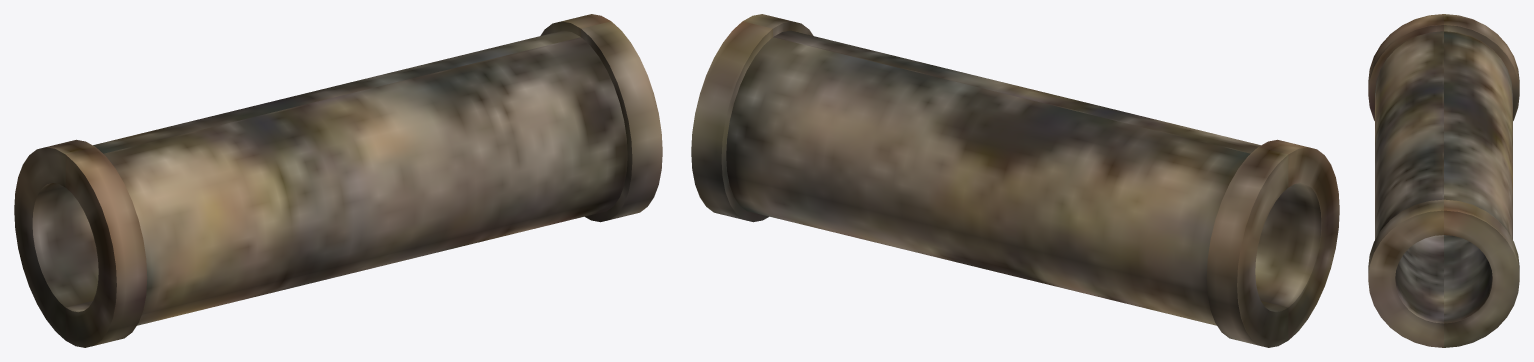
The model's file is pipe-straight-short.gltf.
3 renders of one model, left to right at view 1: azimuth 30°, elevation 25°; view 2: azimuth 150°, elevation 25°; view 3: azimuth 270°, elevation 25°, orthographic. The views are drawn at different scales.
Visible parts, largest first — view 1: Pipe_4; view 2: Pipe_4; view 3: Pipe_4.
Boxes of the visible parts, box(x1,y1,x2,y2) form: Pipe_4: box(14, 14, 662, 347); Pipe_4: box(691, 14, 1339, 347); Pipe_4: box(1368, 14, 1519, 347).
Size of the model in its own units: 0.8625 by 0.2811 by 0.2811.
Materials: 1 (1 with a texture image).
